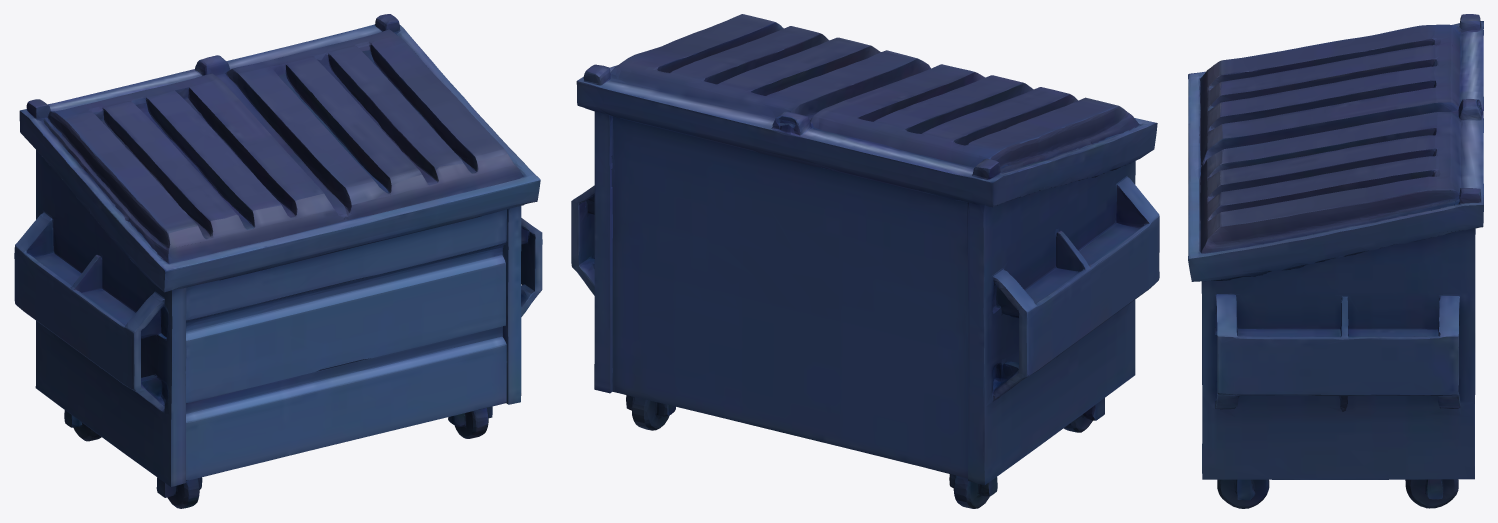
File: prop_dumpster.glb
The picture shows the model from 3 angles, left to right: view 1: azimuth 30°, elevation 25°; view 2: azimuth 150°, elevation 25°; view 3: azimuth 270°, elevation 25°; orthographic projection. The views are drawn at different scales.
Visible parts, largest first — view 1: groundshift; view 2: groundshift; view 3: groundshift.
Part boxes in pixels (<box>): groundshift: <box>14,14,542,508</box>; groundshift: <box>571,14,1159,508</box>; groundshift: <box>1188,14,1483,508</box>.
Size of the model in its own units: 1.75 by 1.35 by 1.09.
1 material, 1 textured.
